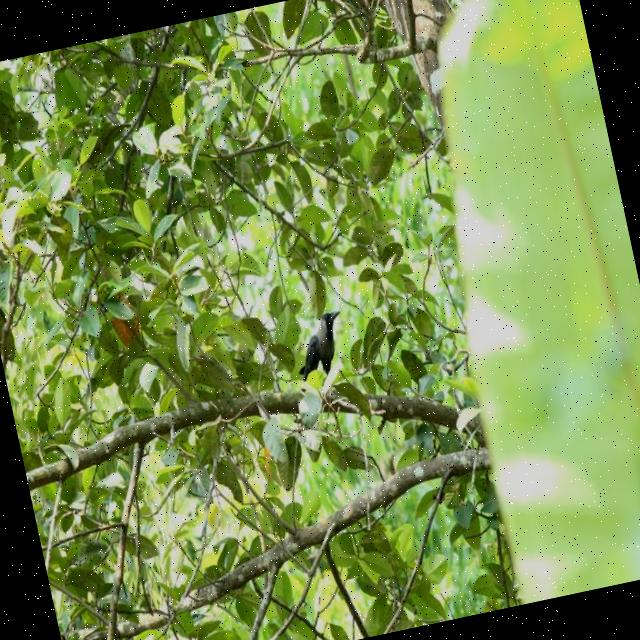crow: (284, 307, 356, 394)
